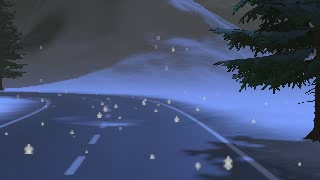Lane: (0, 92, 279, 179)
